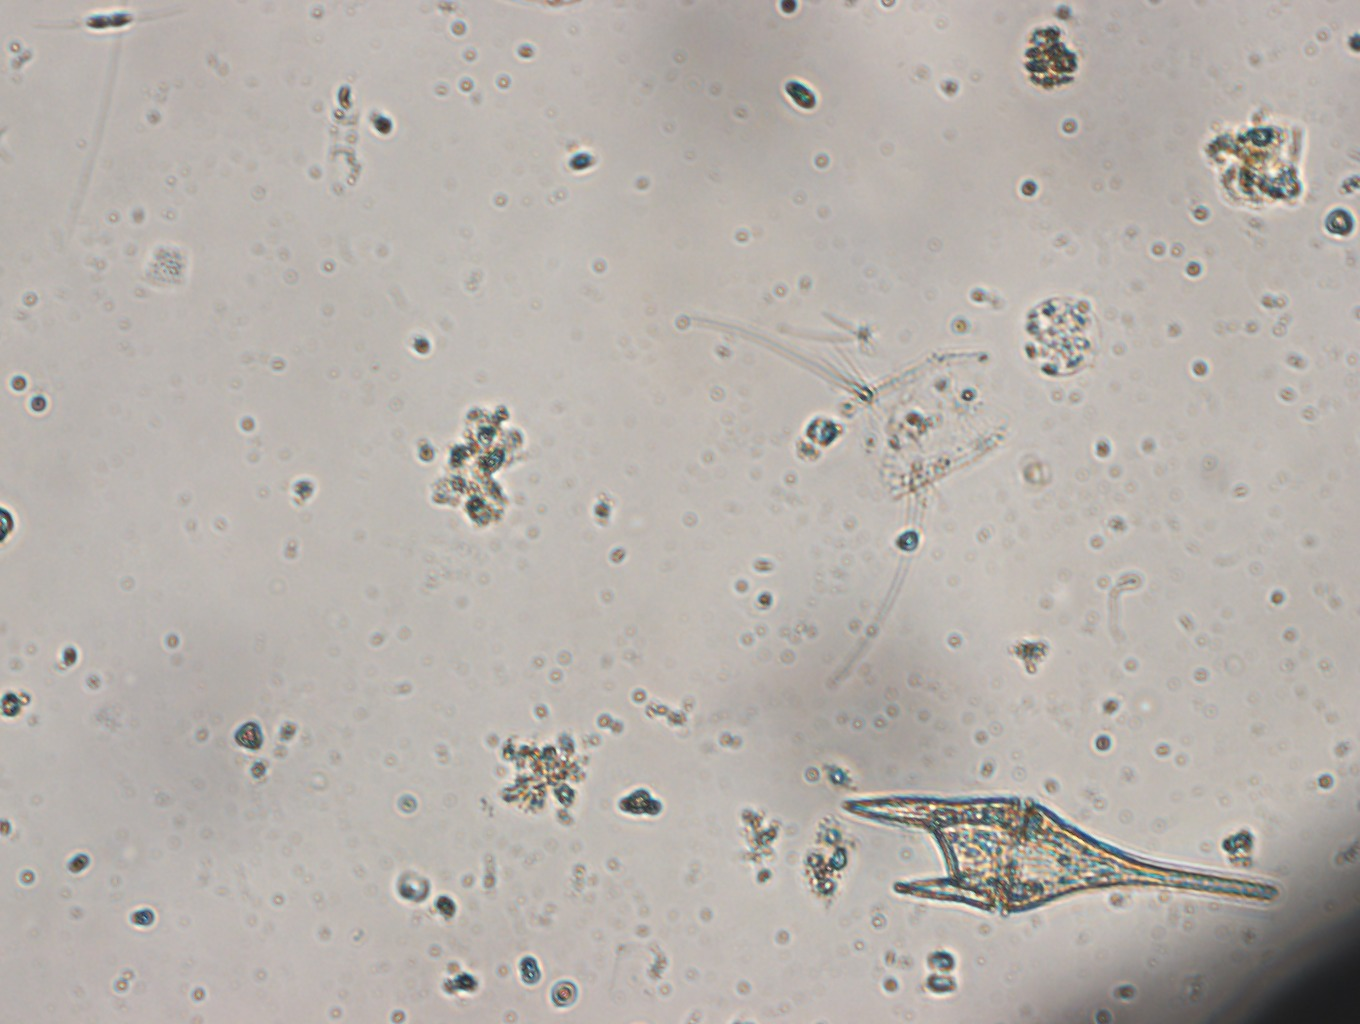ceratium furca: (838, 792, 1279, 915)
